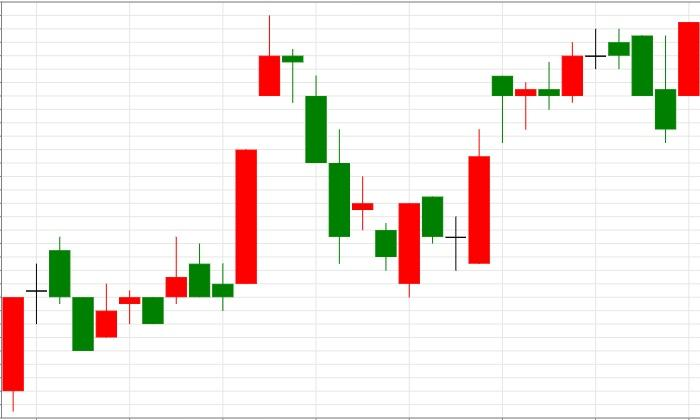bullish_engulfing_rise: (257, 15, 421, 298)
hanging_man_fall: (444, 75, 514, 271)
three_black_crows_fall: (71, 15, 350, 352)
